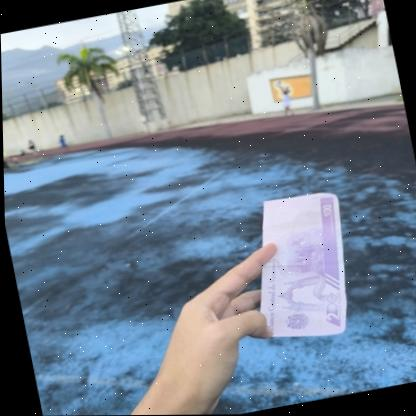vef_back: (236, 188, 362, 347)
